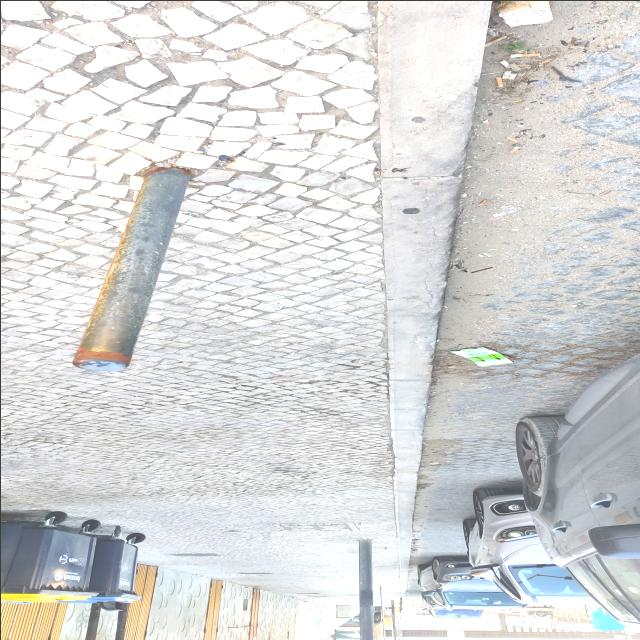Cigarette: (509, 52, 540, 57), (498, 59, 509, 68), (504, 135, 518, 142), (500, 70, 511, 78), (505, 71, 515, 79), (508, 145, 519, 152), (495, 76, 502, 86), (476, 199, 488, 204), (486, 215, 500, 219), (513, 107, 530, 109), (449, 265, 454, 269), (465, 253, 469, 258)
Other carton: (448, 346, 514, 366)
Unlabeled litter: (493, 204, 523, 216), (411, 548, 420, 551)
